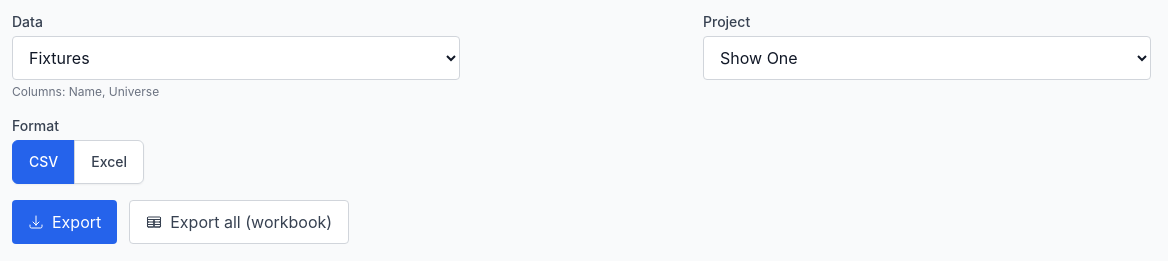
Scenario: DataExportPanel › switching tables resets the scope picker
The image size is (1168, 261).
Expected: the field labelled "Look" is not shown
Step 1. Select "Look details" in the dropdown labelled "Data" → (236, 58), box [12,36,460,80]
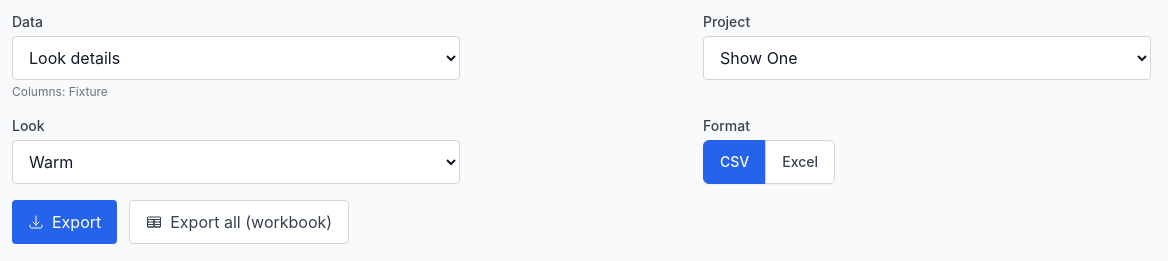
Now the dropdown labelled "Look" shows "Warm", box [12,140,460,184]
